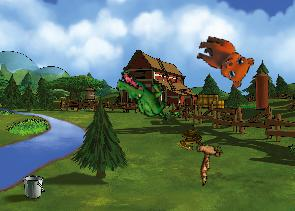bear: (189, 32, 257, 90)
crocodile: (109, 69, 177, 122)
eagle: (180, 128, 233, 186)
